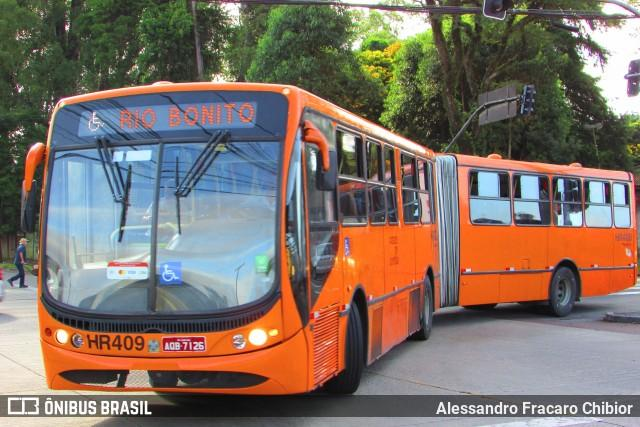RIO BONITO: (112, 98, 257, 134)
